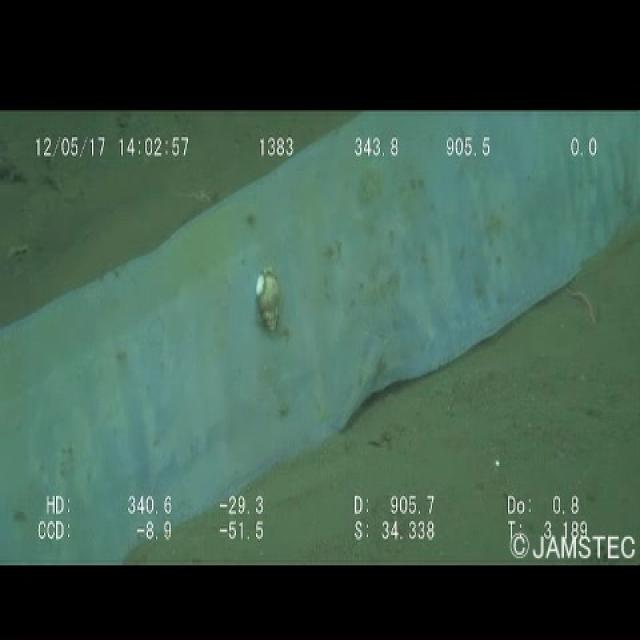plastic: (0, 110, 639, 558)
